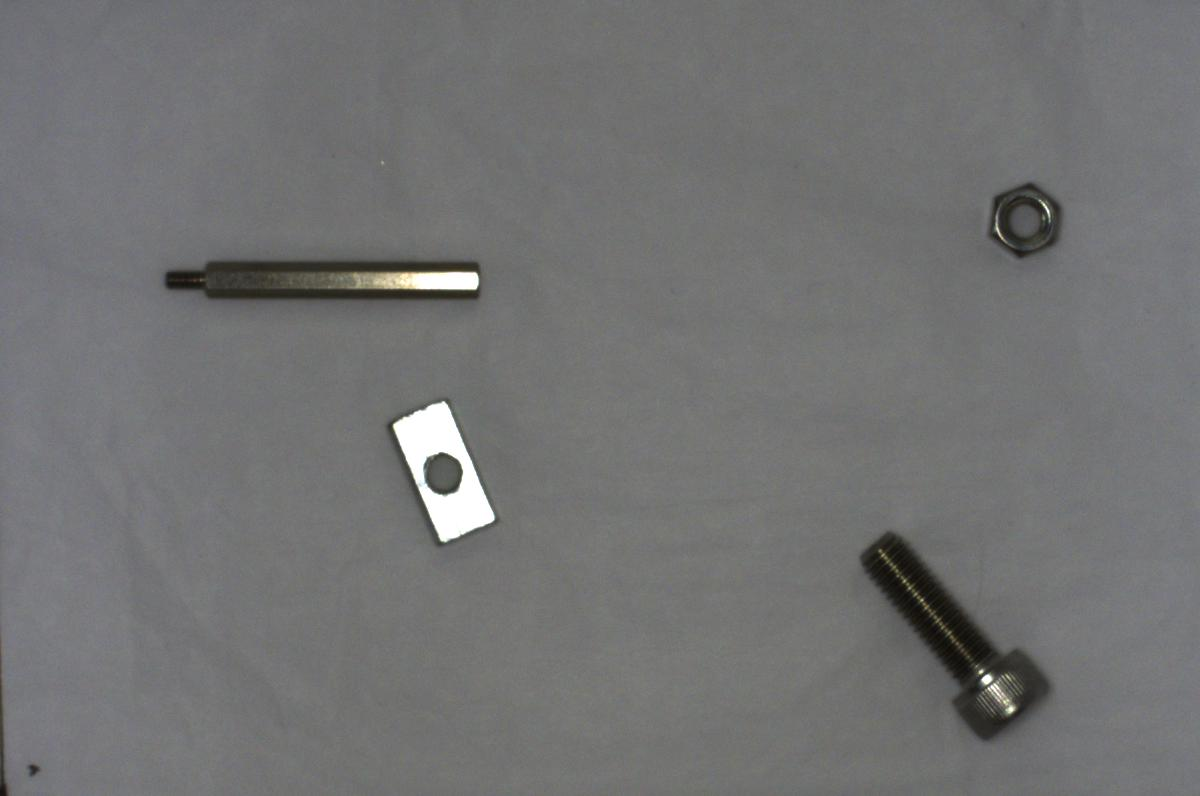Hexagon nut: (981, 174, 1068, 262)
Hexagon screw: (845, 516, 1057, 743)
Hexagonal steel column: (151, 243, 493, 316)
Rectangular nut: (373, 386, 506, 552)
